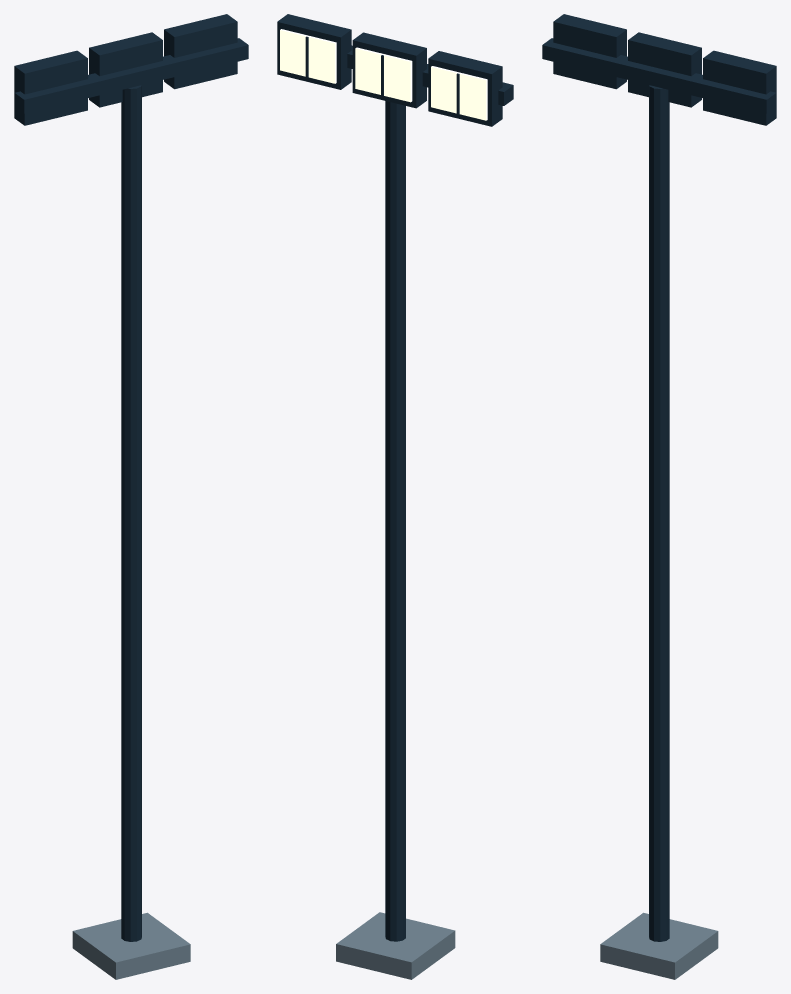
The model's file is floodlight.glb.
3 views of the same model, side by side, from view 1: azimuth 30°, elevation 25°; view 2: azimuth 150°, elevation 25°; view 3: azimuth 330°, elevation 25° (orthographic).
Visible parts, largest first — view 1: floodlight; view 2: floodlight; view 3: floodlight.
Boxes of the visible parts, box(x1,y1,x2,y2) form: floodlight: box(14, 14, 248, 979); floodlight: box(277, 14, 513, 979); floodlight: box(542, 14, 776, 979).
Bounding box in the file's own units: 2.7 × 10.42 × 0.9.
